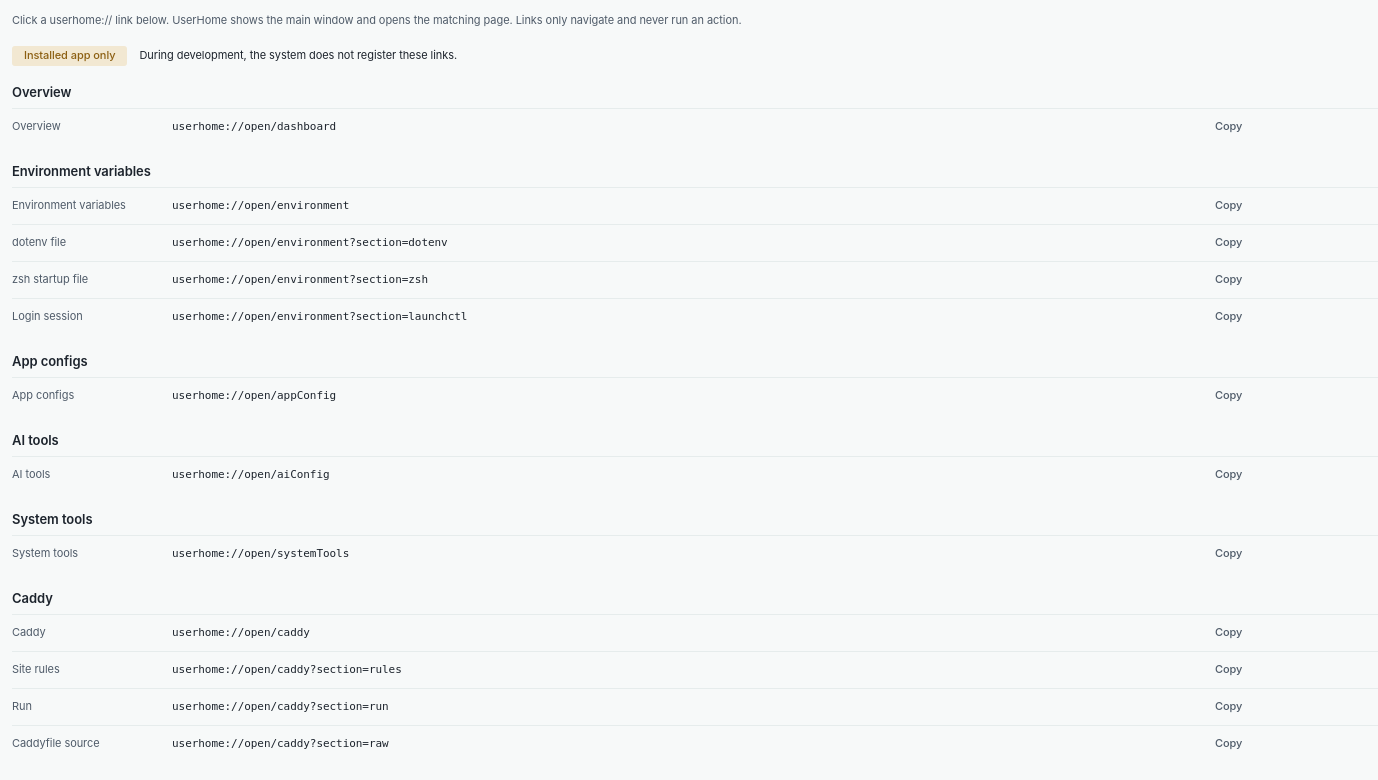
Test: DeepLinkSettings in English › confirms a copied link in English on its own row
This screenshot has width=1378, height=780.
Click the button "Copy" in the row of "zsh startup file" at (1229, 280), box [1202,268,1255,292]
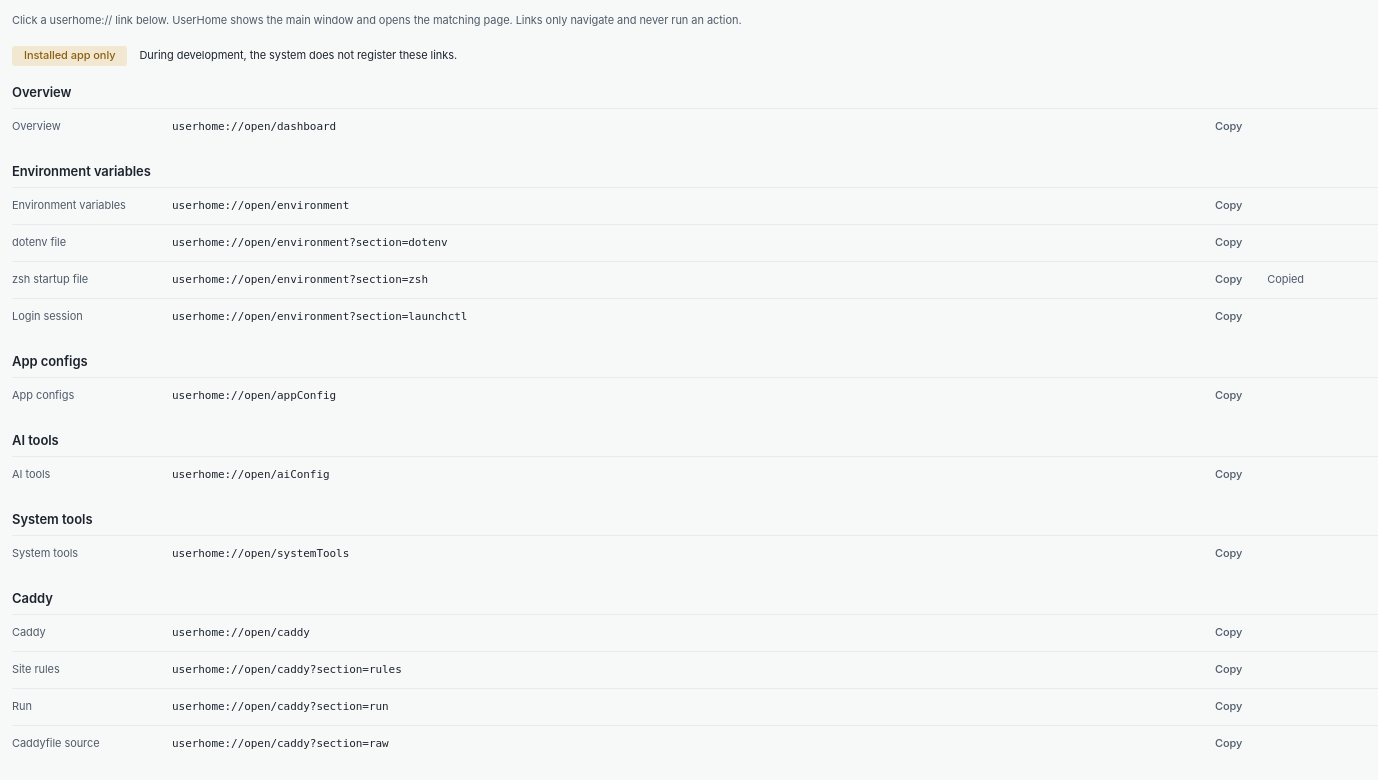
Result: the message reads "Copied" at [1267,272,1304,286]
